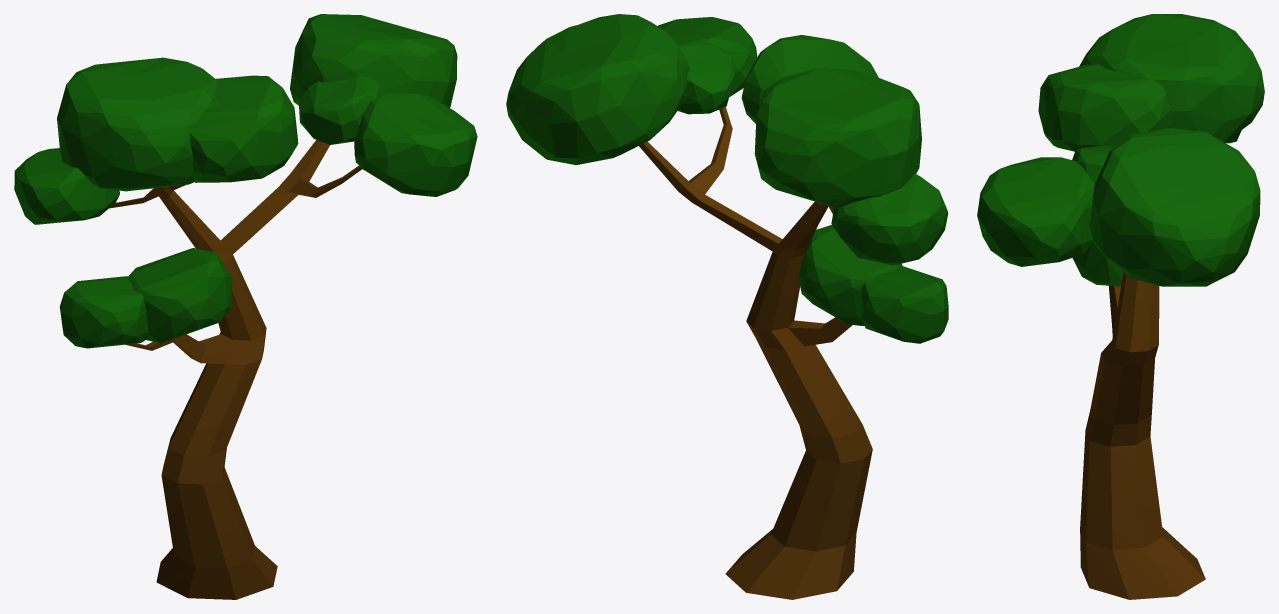
Rendered from arbol9.fbx.
The picture shows the model from 3 angles, left to right: view 1: azimuth 30°, elevation 25°; view 2: azimuth 150°, elevation 25°; view 3: azimuth 270°, elevation 25°; orthographic projection.
Visible parts, largest first — view 1: Circle.005; view 2: Circle.005; view 3: Circle.005.
Boxes of the visible parts, x1,y1,x2,y2 form: Circle.005: (14, 14, 477, 599); Circle.005: (506, 14, 948, 599); Circle.005: (977, 14, 1264, 599).
Size of the model in its own units: 739 by 843 by 434.
